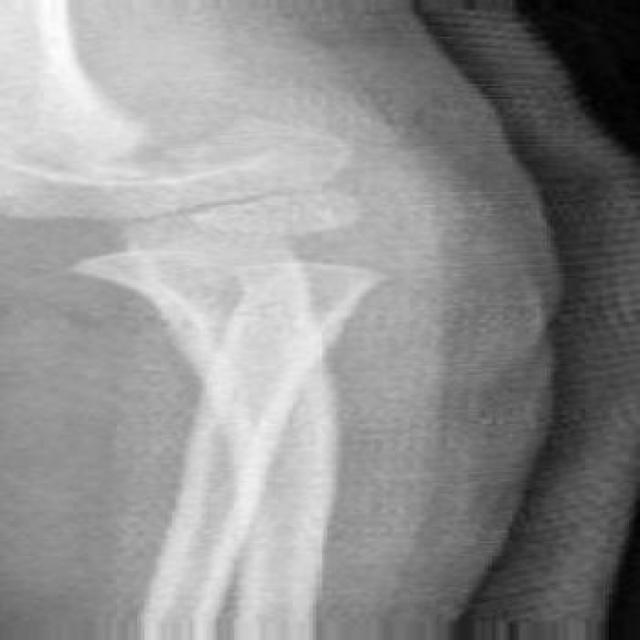Fracture: (62, 242, 417, 308)
